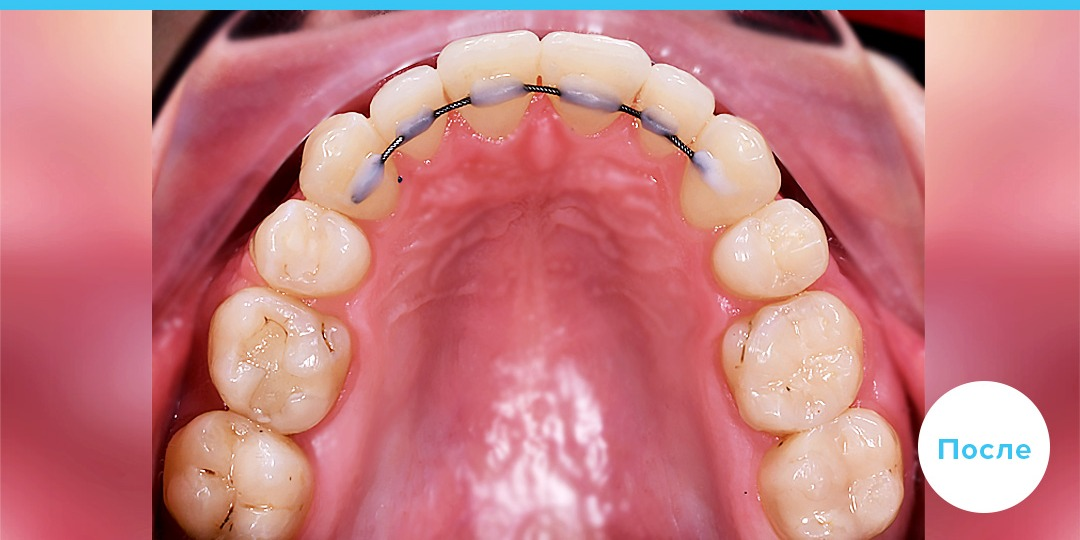UL1BC_healthy: (716, 199, 828, 297)
UL1M_healthy: (764, 407, 903, 537)
UL2BC_decay: (725, 292, 861, 429)
ULCI_decay: (540, 31, 649, 130)
ULC_decay: (682, 114, 781, 228)
ULLI_decay: (639, 63, 713, 153)
UR1BC_healthy: (254, 199, 370, 294)
UR1M_decay: (164, 415, 314, 537)
UR2BC_decay: (209, 290, 352, 431)
URCI_decay: (440, 31, 540, 133)
URC_decay: (301, 113, 400, 219)
URLI_decay: (370, 66, 450, 158)
